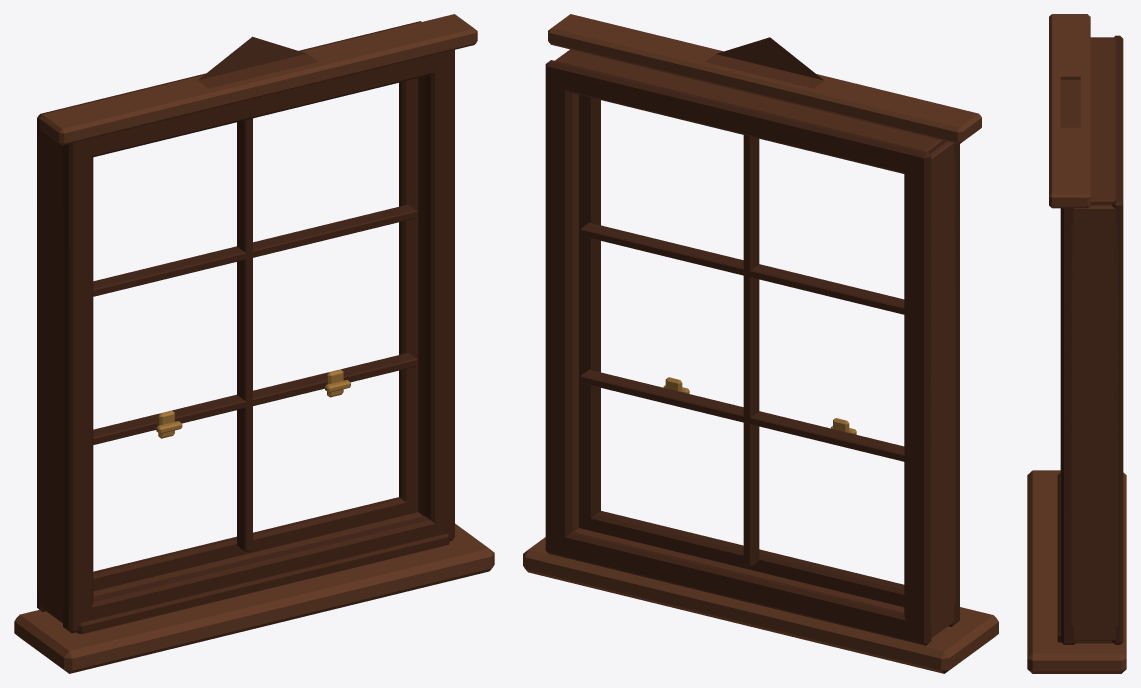
Rendered from BedroomWindowFrame.glb.
3 renders of one model, left to right at view 1: azimuth 30°, elevation 25°; view 2: azimuth 150°, elevation 25°; view 3: azimuth 270°, elevation 25°, orthographic. The views are drawn at different scales.
Parts seen in each view (by area): view 1: DeepSill, FrameUpright, LintelCap, FrameUpright.001, SideReveal, FrameRail, FrameUpright.003, FrameRail.001, VerticalMullion, FrameRail.002, HorizontalMuntin.001, SillApron (+4 smaller); view 2: LintelCap, FrameUpright.003, FrameUpright.002, DeepSill, SideReveal, FrameRail.003, FrameRail.002, FrameUpright.001, FrameRail, VerticalMullion, RevealEnd.001, HorizontalMuntin (+5 smaller); view 3: SideReveal.001, DeepSill, LintelCap, FrameUpright.001, RevealEnd.001, FrameUpright.003, FrameRail.003, SmallGothicCrest, SillApron, FrameRail, FrameRail.001.
Boxes of the visible parts, x1,y1,x2,y2 form: DeepSill: (14, 523, 494, 673); FrameUpright: (63, 141, 93, 632); LintelCap: (39, 14, 477, 145); FrameUpright.001: (425, 50, 454, 540); SideReveal: (38, 123, 64, 622); FrameRail: (63, 516, 454, 632); FrameUpright.003: (399, 78, 418, 514); FrameRail.001: (63, 50, 454, 160); VerticalMullion: (237, 118, 252, 551); FrameRail.002: (37, 497, 418, 611); HorizontalMuntin.001: (93, 204, 417, 296); SillApron: (77, 533, 449, 634); LintelCap: (548, 14, 981, 144); FrameUpright.003: (545, 66, 572, 556); FrameUpright.002: (904, 149, 931, 645); DeepSill: (523, 537, 998, 673); SideReveal: (930, 141, 955, 637); FrameRail.003: (545, 60, 931, 177); FrameRail.002: (545, 531, 931, 645); FrameUpright.001: (579, 95, 600, 530); FrameRail: (579, 511, 959, 626); VerticalMullion: (743, 135, 759, 567); RevealEnd.001: (555, 49, 946, 153); HorizontalMuntin: (580, 369, 904, 461); SideReveal.001: (1071, 205, 1118, 640); DeepSill: (1027, 470, 1126, 673); LintelCap: (1049, 14, 1090, 208); FrameUpright.001: (1060, 209, 1073, 625); RevealEnd.001: (1090, 37, 1115, 205); FrameUpright.003: (1113, 205, 1123, 625); FrameRail.003: (1112, 35, 1123, 222); SmallGothicCrest: (1060, 76, 1080, 127); SillApron: (1057, 473, 1060, 642); FrameRail: (1060, 625, 1076, 644); FrameRail.001: (1060, 208, 1073, 222).
Size of the model in its own units: 4.9 by 6.16 by 1.1.
